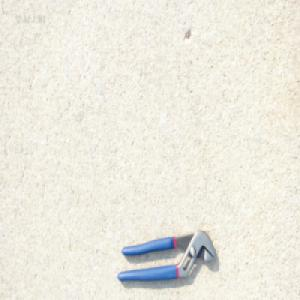Pliers: (116, 227, 217, 283)
